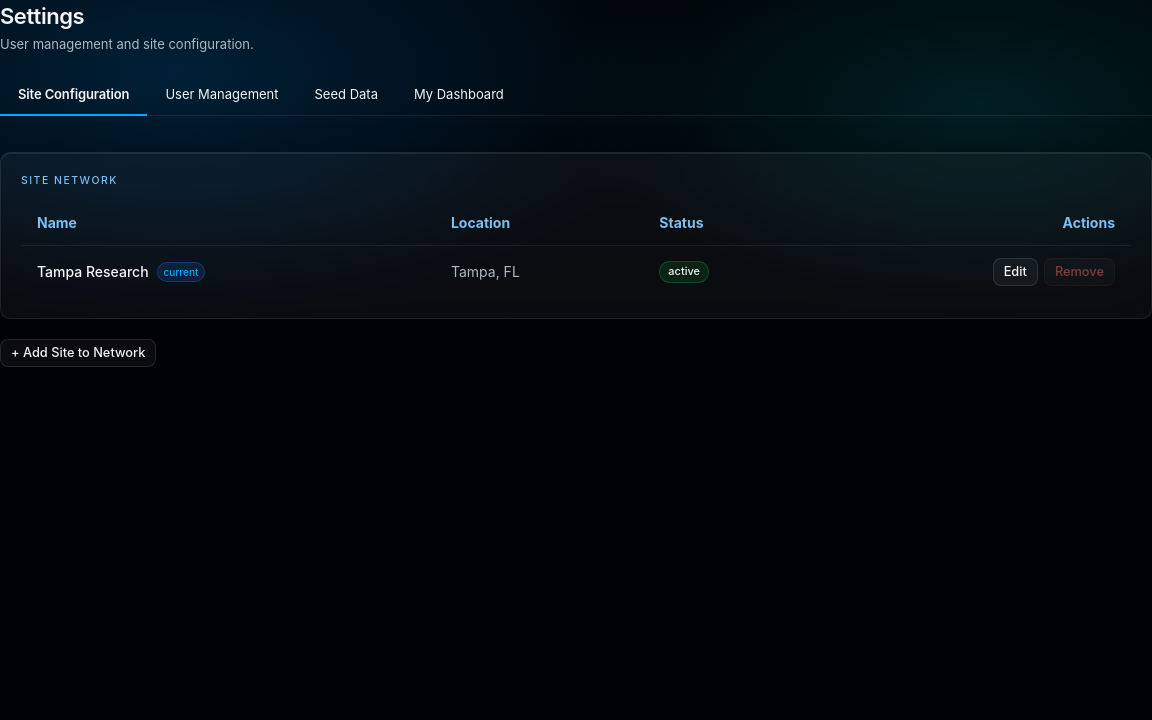
Test: Settings › opens edit dialog pre-populated when site Edit is clicked
Click the button "Edit" at (1015, 272), box 993,258 -> 1038,286
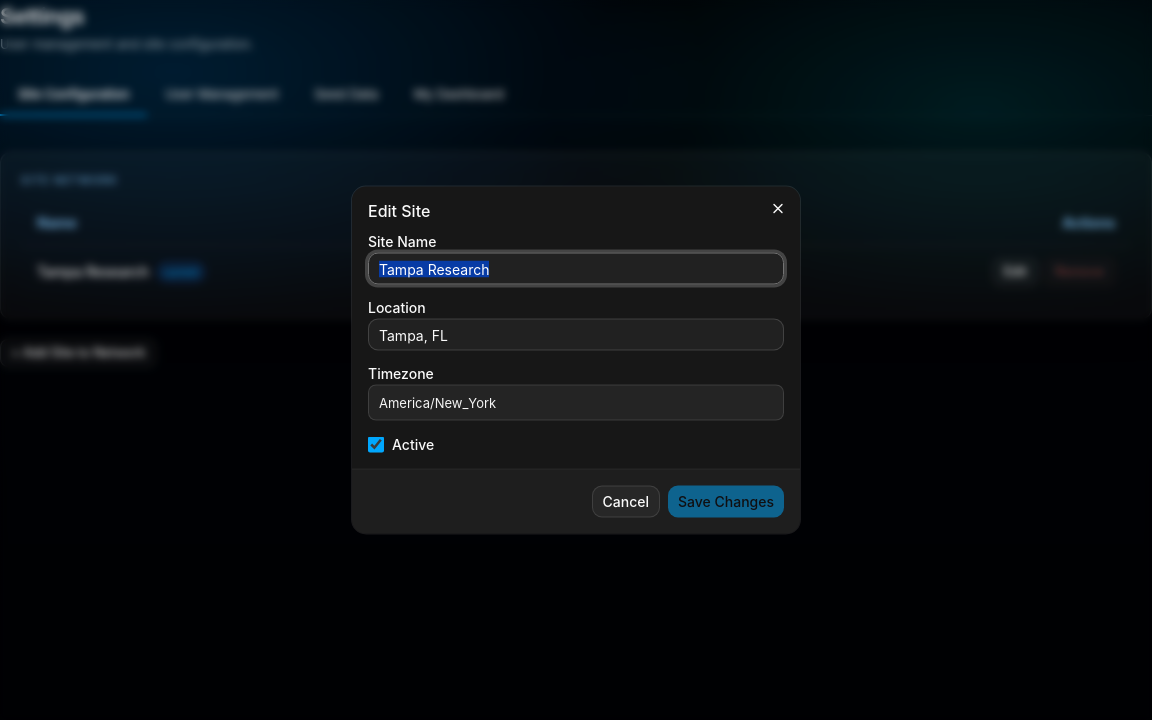
Expected: the dialog "Edit Site" is shown, 352,186 -> 800,534
Expected: the field labelled "Site Name" holds "Tampa Research", 368,252 -> 784,284
Expected: the field labelled "Location" holds "Tampa, FL", 368,318 -> 784,350
